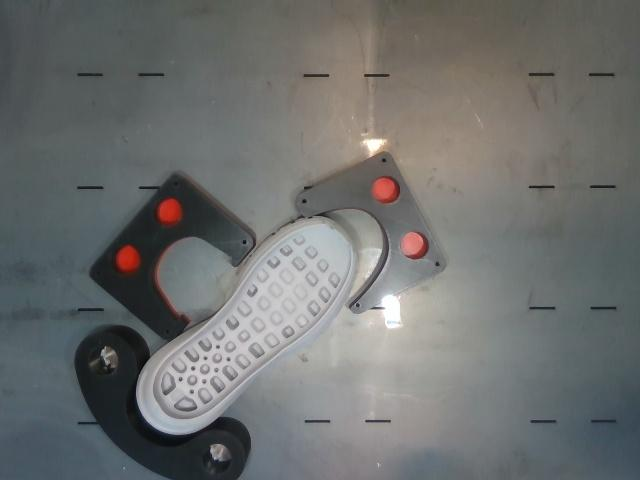shoes: (153, 224, 352, 419)
